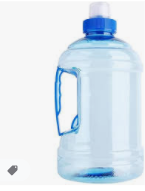Bottle: (61, 3, 144, 181)
